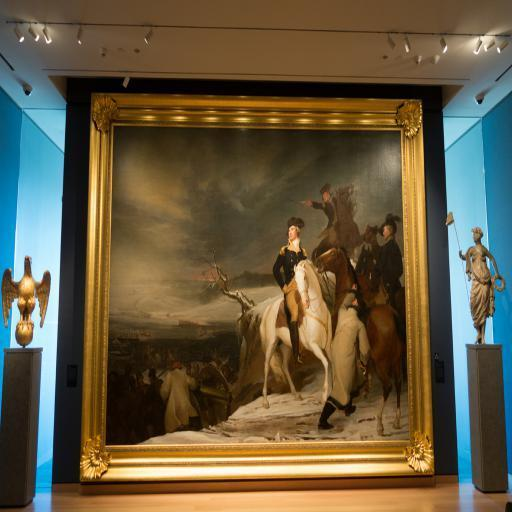horse: (314, 243, 406, 434), (246, 258, 334, 406), (309, 186, 367, 260)
